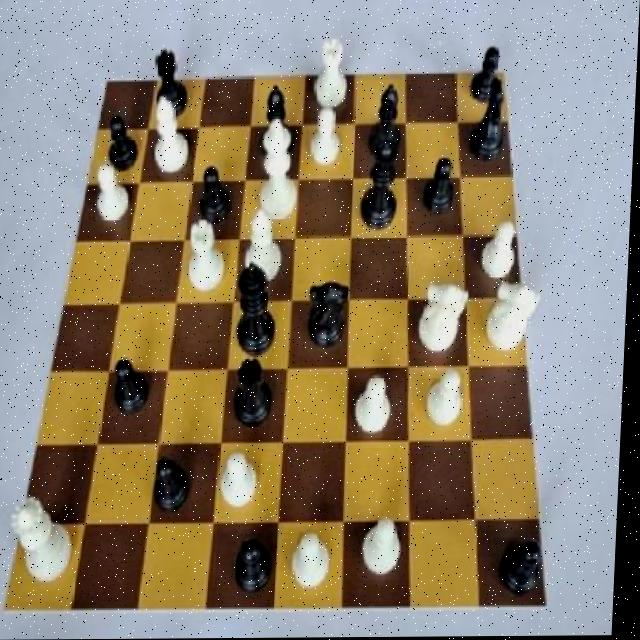bishop: (366, 82, 410, 175), (253, 83, 302, 159)
black-bishop: (237, 260, 283, 368)
black-king: (305, 273, 355, 361), (465, 78, 513, 168)
black-knight: (227, 528, 286, 604), (499, 531, 554, 604), (152, 452, 199, 525), (194, 163, 241, 233), (109, 350, 156, 419), (418, 156, 464, 223), (465, 37, 505, 110), (104, 111, 144, 176)
black-pawn: (356, 142, 407, 238)
black-queen: (234, 357, 283, 439), (153, 43, 196, 128)
black-rook: (243, 205, 292, 296), (144, 90, 192, 182)
white-bishop: (252, 115, 307, 226)
white-king: (483, 277, 545, 359), (418, 274, 474, 360)
white-knight: (475, 208, 525, 290), (422, 363, 475, 436), (351, 370, 406, 439), (359, 513, 409, 586), (287, 527, 341, 591), (221, 446, 269, 511), (89, 165, 133, 231), (308, 106, 346, 170)
white-pawn: (7, 490, 87, 598)
white-queen: (183, 219, 234, 298), (312, 36, 354, 121)
